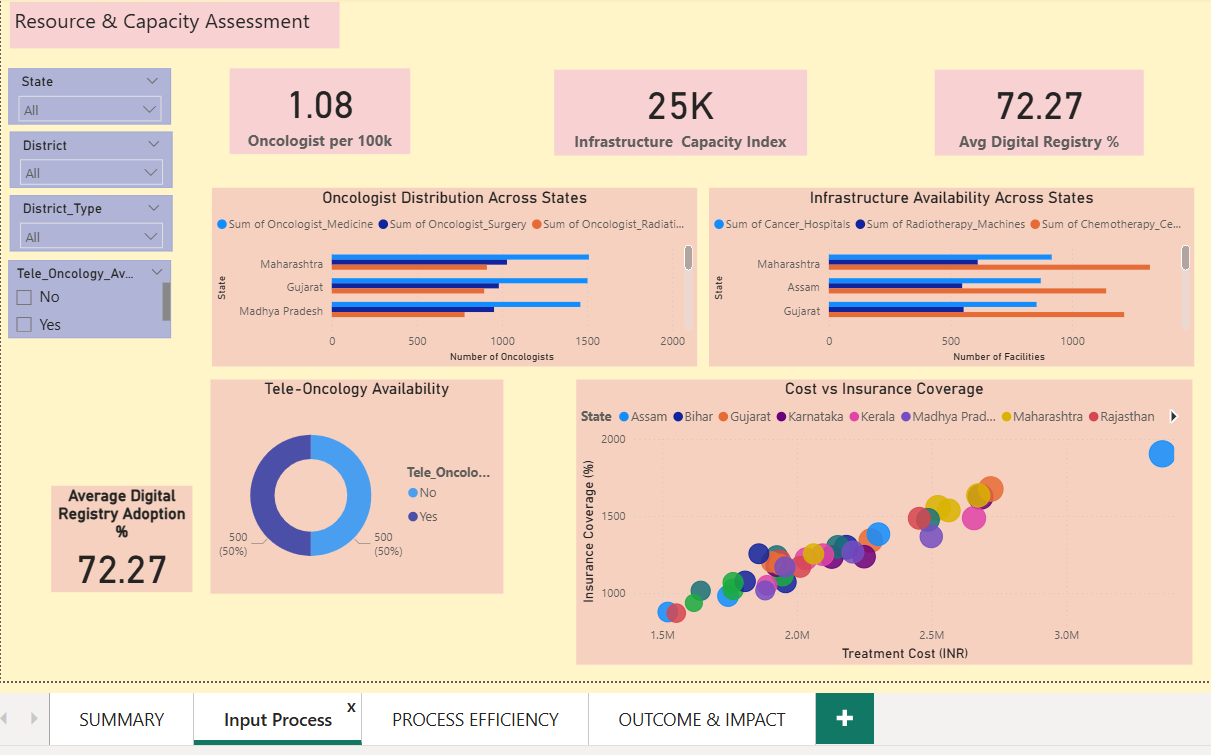

This screenshot's page, from the dashboard's own definition file:
{"tool":"powerbi","page":{"name":"Input Process","canvas":[1280,720],"ordinal":1},"visuals":[{"type":"slicer","fields":{"Values":["Sheet1.State"]},"box":[8.2,76.4,171,59.1],"z":0},{"type":"slicer","fields":{"Values":["Sheet1.District"]},"box":[9.1,142.7,171,59.1],"z":1000},{"type":"slicer","fields":{"Values":["Sheet1.District_Type"]},"box":[9.1,210,171,59.1],"z":2000},{"type":"slicer","fields":{"Values":["Sheet1.Tele_Oncology_Available"]},"box":[8.2,278.2,171,81.8],"z":3000},{"type":"textbox","box":[10,5.9,346.5,48.8],"z":5000},{"type":"card","fields":{"Values":["Sheet1.Oncologist per 100k"]},"box":[240,76,190,90],"z":6000},{"type":"card","fields":{"Values":["Sheet1.Infrastructure Index"]},"box":[581.4,77.1,265.7,90],"z":7000},{"type":"card","fields":{"Values":["Sheet1.Avg Digital Registry %"]},"box":[981.4,77.1,220,90],"z":8000},{"type":"clusteredBarChart","title":"Oncologist Distribution Across States","fields":{"Category":["Sheet1.State"],"Y":["Sum(Sheet1.Oncologist_Medicine)","Sum(Sheet1.Oncologist_Surgery)","Sum(Sheet1.Oncologist_Radiation)"]},"box":[221.1,201.1,510,187.8],"z":11000},{"type":"clusteredBarChart","title":"Infrastructure Availability Across States","fields":{"Category":["Sheet1.State"],"Y":["Sum(Sheet1.Cancer_Hospitals)","Sum(Sheet1.Radiotherapy_Machines)","Sum(Sheet1.Chemotherapy_Centres)"]},"box":[743.3,202.2,510,187.8],"z":12000},{"type":"donutChart","title":"Tele-Oncology Availability","fields":{"Category":["Sheet1.Tele_Oncology_Available"],"Y":["CountNonNull(Sheet1.Tele_Oncology_Available)"]},"box":[220,402.5,307.5,225],"z":13000},{"type":"card","title":"Average Digital Registry Adoption %","fields":{"Values":["Avg(Sheet1.Digital_Cancer_Registry_percent)"]},"box":[52.7,514.5,148.8,111.6],"z":14000},{"type":"scatterChart","title":"Cost vs Insurance Coverage","fields":{"Category":["Sheet1.District"],"Series":["Sheet1.State"],"Size":["Sum(Sheet1.Population_Total)"],"X":["Sum(Sheet1.Avg_Treatment_Cost_INR)"],"Y":["Sum(Sheet1.Insurance_Coverage_percent)"]},"box":[605,402.5,647.5,300],"z":15000}]}

Visuals, with their boxes on the page's 1280x720 design canvas (x1, y1, x2, y2). These are canvas units, not pixel positions in the 1211x755 screenshot, which may show the page scaled, cropped or inside an application window:
slicer - Sheet1.State: x1=8, y1=76, x2=179, y2=136
slicer - Sheet1.District: x1=9, y1=143, x2=180, y2=202
slicer - Sheet1.District_Type: x1=9, y1=210, x2=180, y2=269
slicer - Sheet1.Tele_Oncology_Available: x1=8, y1=278, x2=179, y2=360
textbox: x1=10, y1=6, x2=356, y2=55
card - Sheet1.Oncologist per 100k: x1=240, y1=76, x2=430, y2=166
card - Sheet1.Infrastructure Index: x1=581, y1=77, x2=847, y2=167
card - Sheet1.Avg Digital Registry %: x1=981, y1=77, x2=1201, y2=167
"Oncologist Distribution Across States" clusteredBarChart: x1=221, y1=201, x2=731, y2=389
"Infrastructure Availability Across States" clusteredBarChart: x1=743, y1=202, x2=1253, y2=390
"Tele-Oncology Availability" donutChart: x1=220, y1=402, x2=528, y2=628
"Average Digital Registry Adoption %" card: x1=53, y1=514, x2=202, y2=626
"Cost vs Insurance Coverage" scatterChart: x1=605, y1=402, x2=1252, y2=702
